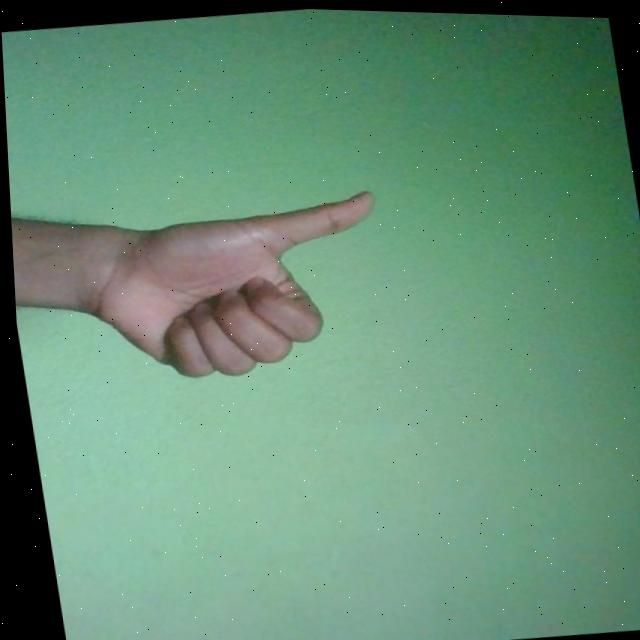Good Job: (69, 179, 396, 393)
